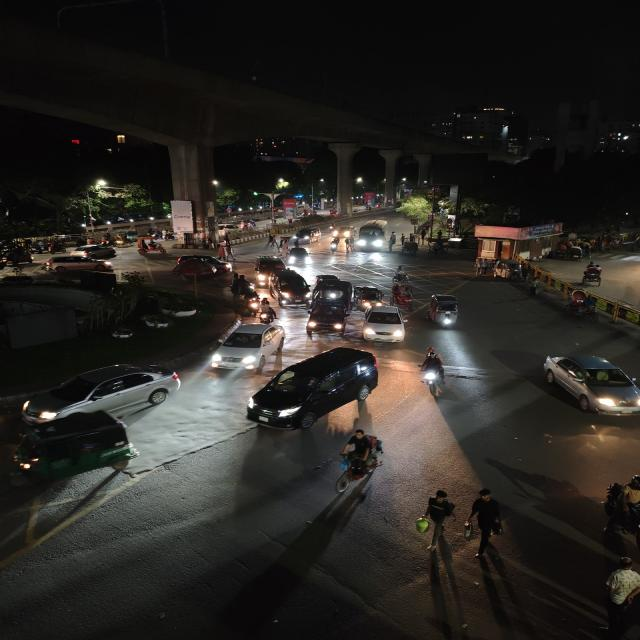bus: (356, 221, 389, 253)
car: (242, 343, 381, 433), (8, 359, 186, 426), (539, 351, 640, 419), (208, 321, 286, 371), (304, 283, 351, 337), (359, 306, 410, 346), (268, 269, 312, 307), (40, 253, 117, 271), (186, 253, 233, 275), (252, 257, 286, 285), (72, 245, 121, 260), (284, 246, 314, 266), (294, 227, 323, 246), (331, 223, 356, 240)
cng: (5, 409, 137, 481), (425, 292, 462, 332), (352, 284, 384, 312)
motorcycle: (325, 427, 386, 499), (596, 473, 640, 557), (415, 347, 449, 398), (255, 298, 278, 324), (327, 236, 342, 254)
pedestrian: (463, 485, 507, 563), (418, 485, 459, 566), (215, 246, 229, 262), (264, 232, 276, 250), (348, 234, 358, 250), (226, 243, 235, 259), (272, 230, 279, 248), (388, 237, 394, 252)
rickshaw: (562, 288, 596, 318), (578, 262, 605, 287), (391, 281, 416, 308), (134, 237, 167, 257), (551, 243, 585, 260), (567, 244, 586, 260)
